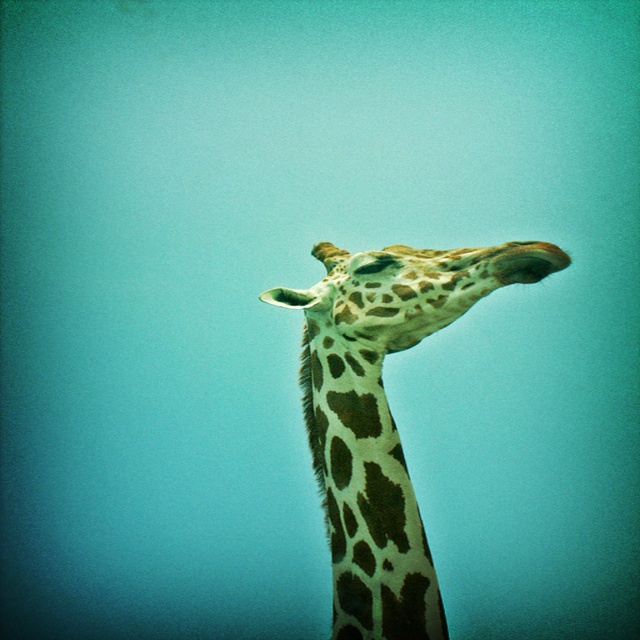Giraffe: (258, 226, 570, 611)
